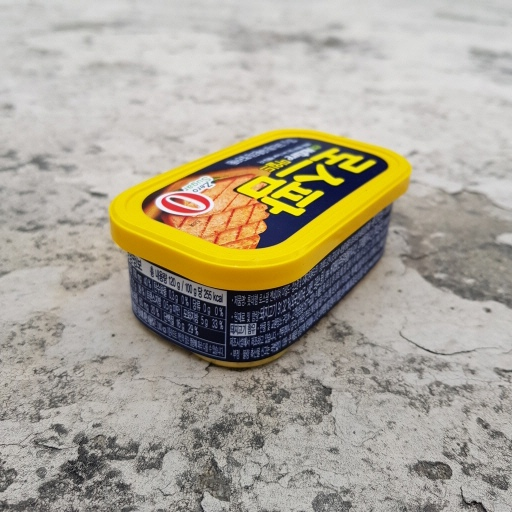Metal_2: (107, 122, 411, 369)
